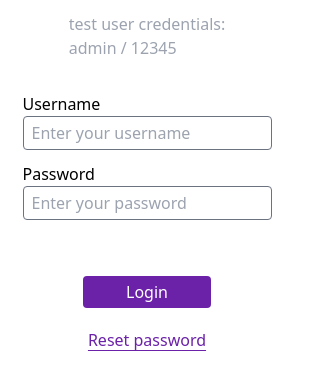
Test: AuthenticationForm › should display an error message on login failure
Step 1. Type "wronguser" into the field with placeholder "Enter your username" → (147, 133), box [22,116,272,150]
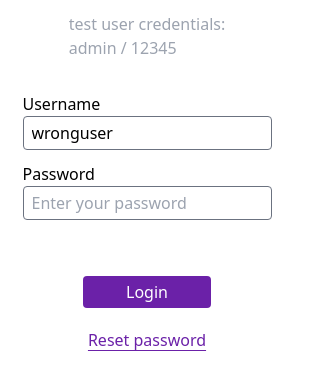
Step 2. Type "wrongpass" into the password field with placeholder "Enter your password" → (147, 203), box [22,186,272,220]
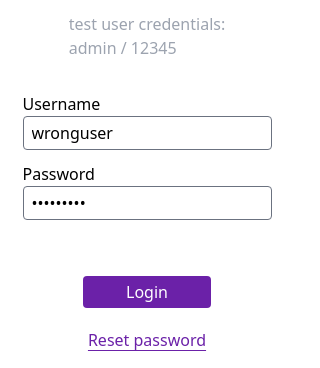
Step 3. Click the button "Login" → (147, 292), box [83,276,211,308]
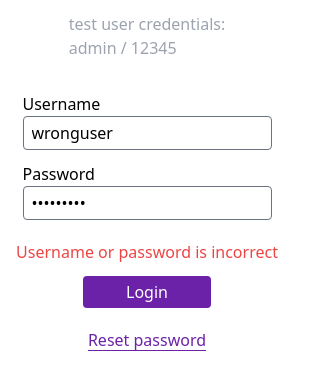
Check: the text "Username or password is incorrect" is shown, box [16,240,278,256]
